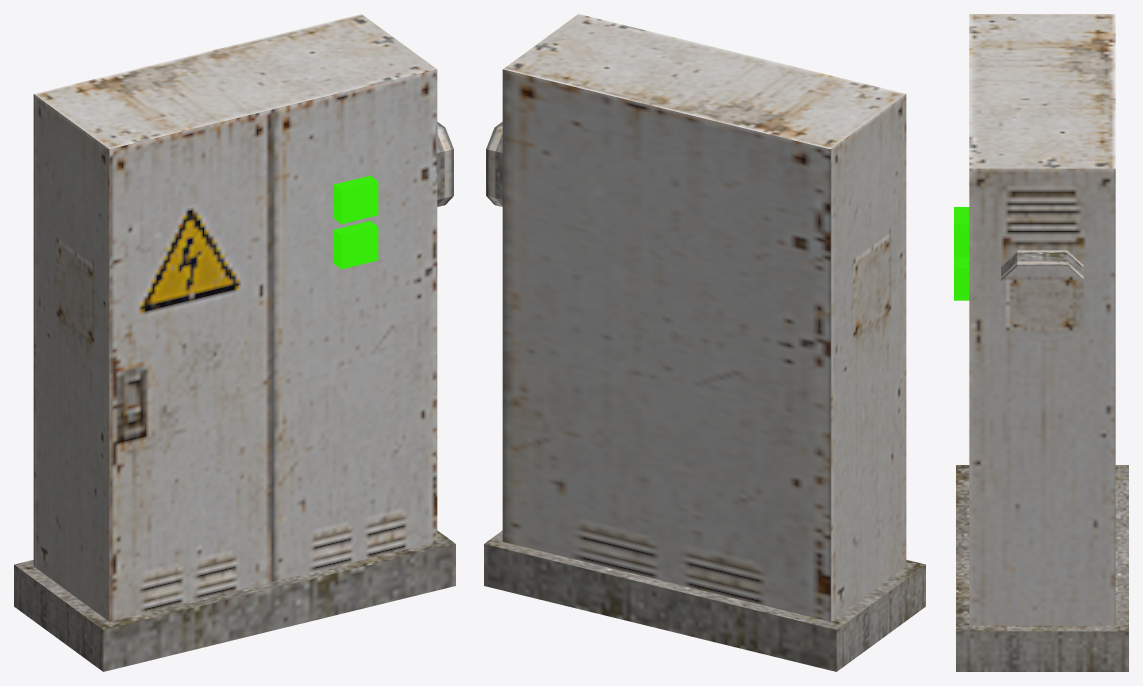
Rendered from ElectricityBox_Model.fbx.
3 renders of one model, left to right at view 1: azimuth 30°, elevation 25°; view 2: azimuth 150°, elevation 25°; view 3: azimuth 270°, elevation 25°, orthographic. The views are drawn at different scales.
Visible parts, largest first — view 1: Cube.003; view 2: Cube.003; view 3: Cube.003.
Boxes of the visible parts, x1,y1,x2,y2 form: Cube.003: (14,14,455,671); Cube.003: (484,14,925,671); Cube.003: (954,14,1128,671).
Size of the model in its own units: 114 by 150 by 47.73.
